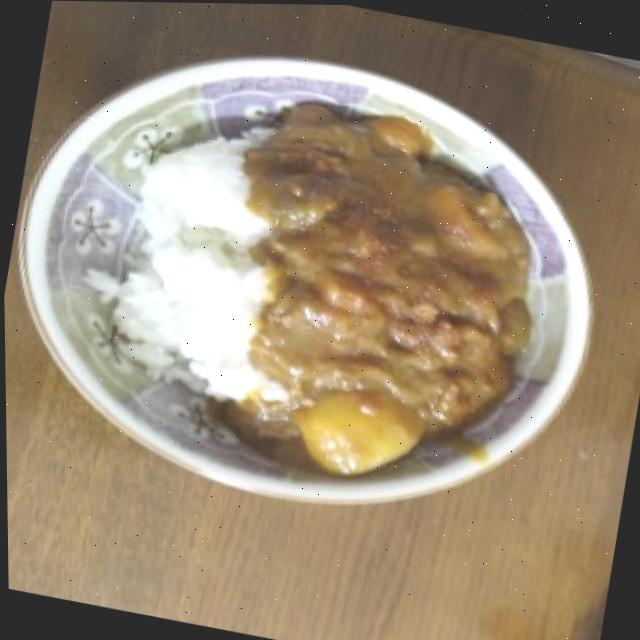牛肉菜式: (0, 25, 619, 562)
